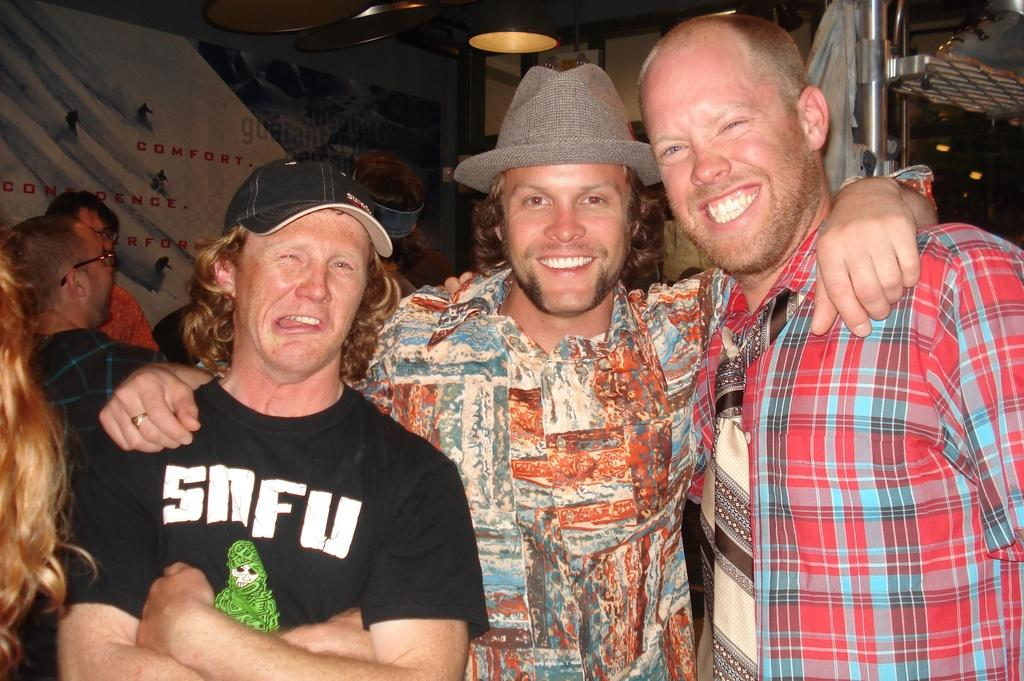Hat: (452, 61, 661, 192), (224, 161, 396, 260)
